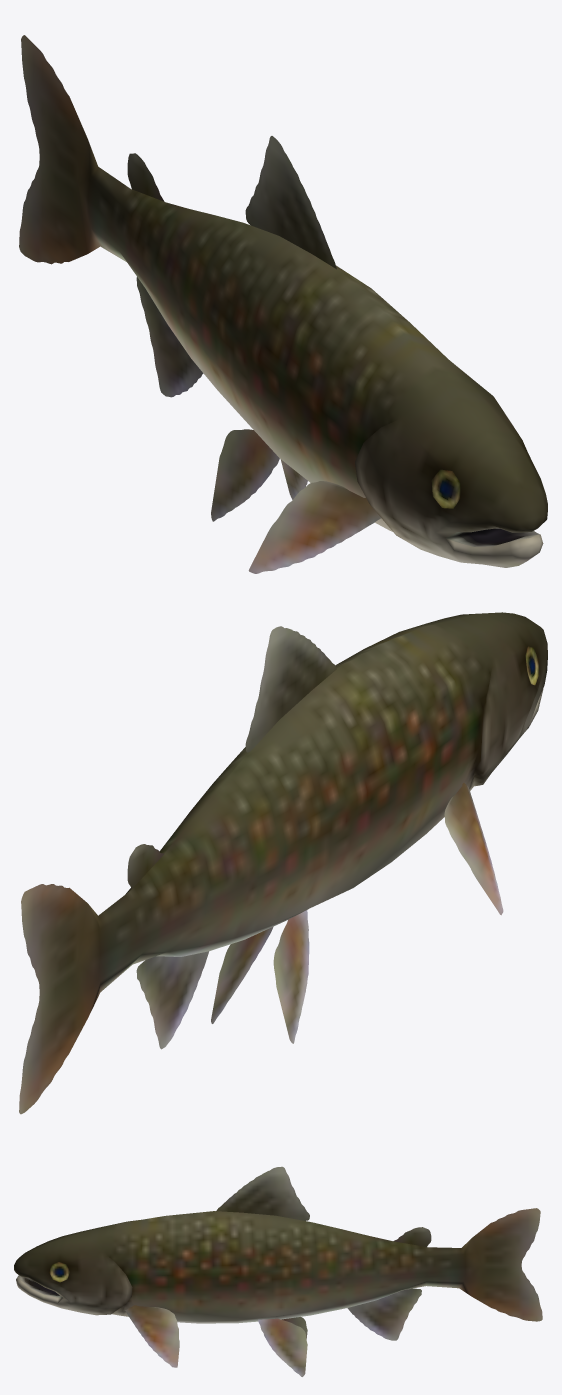
Rendered from char.glb.
3 views of the same model, one above another, from view 1: azimuth 30°, elevation 25°; view 2: azimuth 150°, elevation 25°; view 3: azimuth 270°, elevation 25° (orthographic). The views are drawn at different scales.
Size of the model in its own units: 3.12 by 4.49 by 10.51.
Materials: 1 (1 with a texture image).
